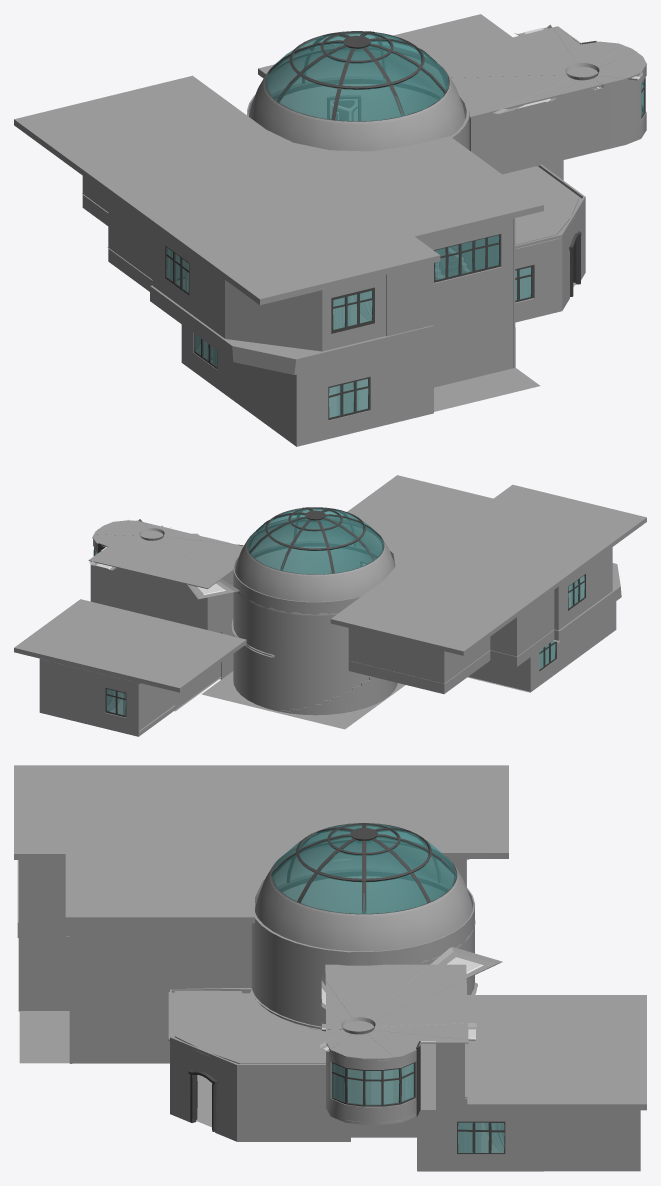
3 renders of one model, top to bottom at view 1: azimuth 30°, elevation 25°; view 2: azimuth 150°, elevation 25°; view 3: azimuth 270°, elevation 25°, orthographic. The views are drawn at different scales.
Parts seen in each view (by area): view 1: Base_Roof_2, Base_Wall_2, Base_Wall_1, Base_DoubleWall, Base_Floor_2, Base_Roof_1, Base_DoubleCircularWall, Base_Floor_1; view 2: Base_Roof_2, Base_Wall_2, Base_DoubleCircularWall, Base_Roof_1, Base_Wall_1, Base_Floor_1, Base_Floor_2; view 3: Base_Roof_2, Base_Roof_1, Base_Wall_1, Base_DoubleWall, Base_DoubleCircularWall, Base_Wall_2, Base_Floor_1, Base_Floor_2.
Boxes of the visible parts, x1,y1,x2,y2 form: Base_Roof_2: (14, 24, 646, 305); Base_Wall_2: (82, 37, 646, 351); Base_Wall_1: (181, 160, 585, 446); Base_DoubleWall: (386, 218, 515, 387); Base_Floor_2: (82, 193, 463, 374); Base_Roof_1: (258, 14, 581, 250); Base_DoubleCircularWall: (247, 84, 469, 150); Base_Floor_1: (207, 271, 575, 414); Base_Roof_2: (88, 475, 646, 655); Base_Wall_2: (90, 520, 612, 693); Base_DoubleCircularWall: (233, 547, 397, 715); Base_Roof_1: (14, 599, 246, 692); Base_Wall_1: (39, 601, 616, 736); Base_Floor_1: (108, 645, 548, 731); Base_Floor_2: (352, 563, 621, 683); Base_Roof_2: (14, 765, 508, 1060); Base_Roof_1: (168, 991, 646, 1110); Base_Wall_1: (18, 935, 640, 1171); Base_DoubleWall: (19, 860, 251, 1063); Base_DoubleCircularWall: (251, 876, 474, 1031); Base_Wall_2: (326, 859, 466, 1124); Base_Floor_1: (19, 1011, 543, 1171); Base_Floor_2: (17, 860, 466, 1123).
Bounding box in the file's own units: 3599 × 1392 × 3517.
